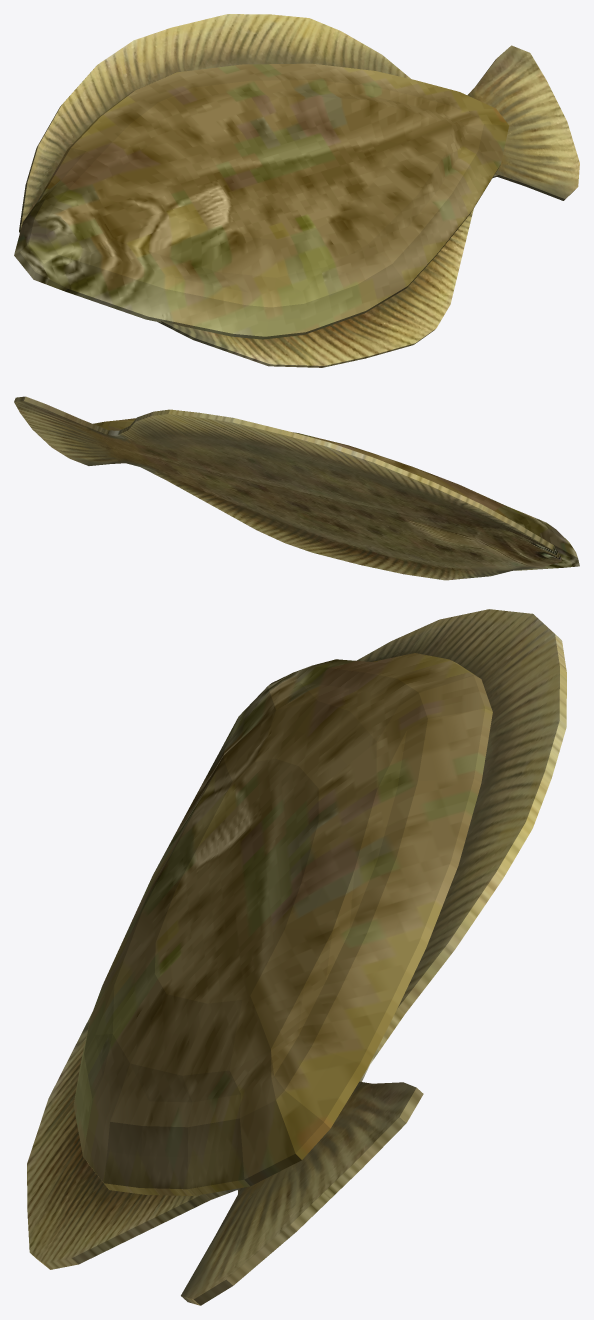
Rendered from flounder.glb.
The picture shows the model from 3 angles, top to bottom: view 1: azimuth 30°, elevation 25°; view 2: azimuth 150°, elevation 25°; view 3: azimuth 270°, elevation 25°; orthographic projection. The views are drawn at different scales.
Parts seen in each view (by area): view 1: Plane, Plane.001; view 2: Plane.001, Plane; view 3: Plane, Plane.001.
Boxes of the visible parts, x1,y1,x2,y2 form: Plane: [14, 63, 508, 339]; Plane.001: [19, 14, 579, 367]; Plane.001: [14, 396, 562, 580]; Plane: [93, 418, 579, 570]; Plane: [73, 653, 492, 1195]; Plane.001: [27, 609, 566, 1305].
Size of the model in its own units: 4.29 by 1.84 by 1.84.
2 materials, 2 textured.
